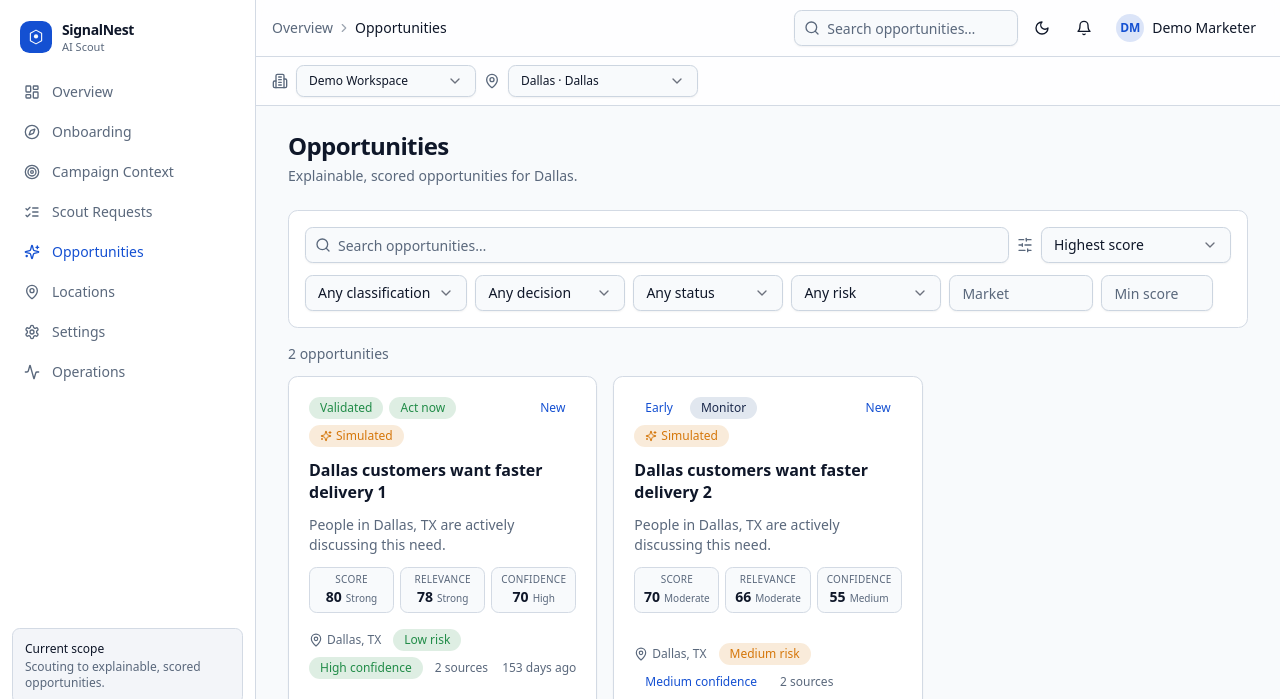
opportunity feed › filters the feed by classification
Expected: the heading "Dallas customers want faster delivery 1" is shown, [309,459,576,503]
Expected: the heading "Dallas customers want faster delivery 2" is shown, [634,459,902,503]
Click the dropdown named "filter by classification": (386, 293) [305,275,467,311]
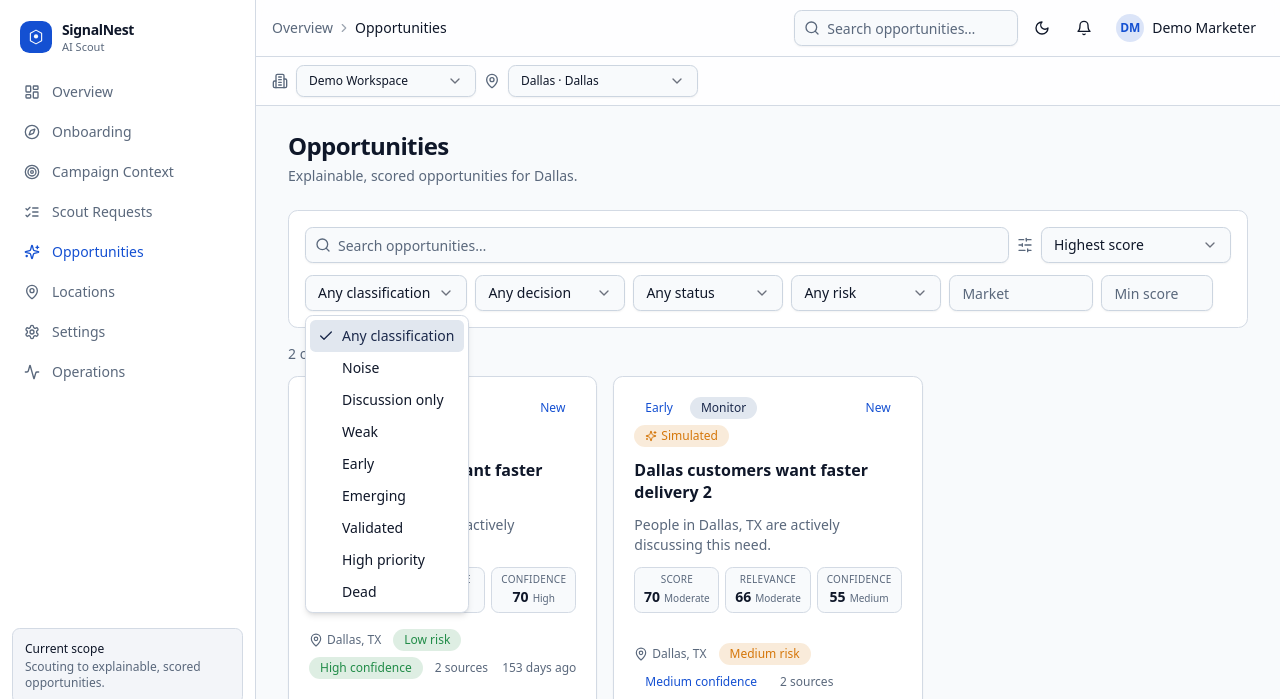
Click the option "Validated": (373, 528) [342,518,403,537]
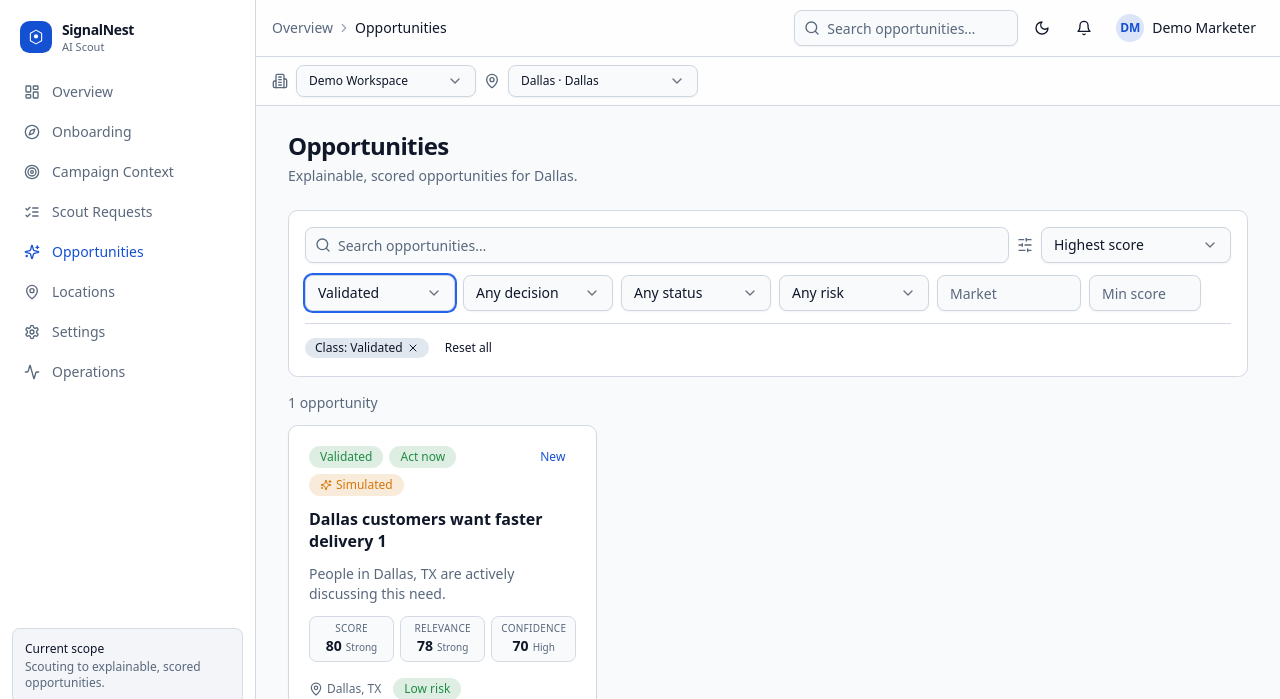
Expected: the heading "Dallas customers want faster delivery 1" is shown, [309,508,576,552]
Now the link "Dallas customers want faster delivery 2" is gone
